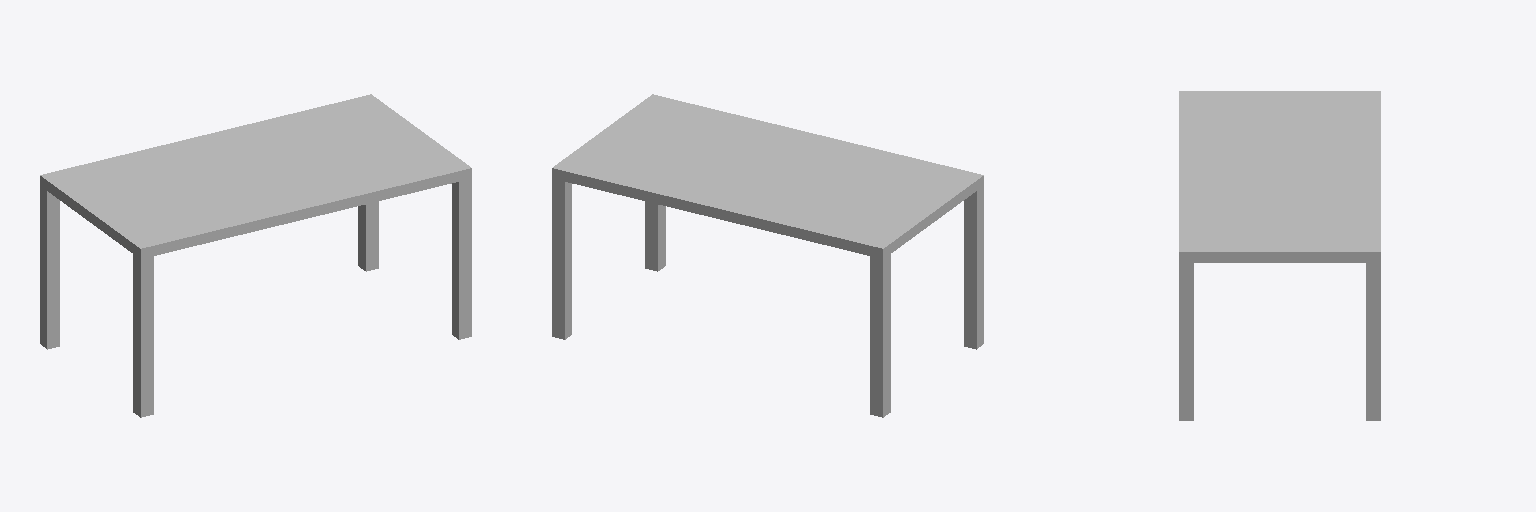
File: Unit_3_Challenge_Table.obj
3 views of the same model, side by side, from view 1: azimuth 30°, elevation 25°; view 2: azimuth 150°, elevation 25°; view 3: azimuth 270°, elevation 25° (orthographic).
Parts seen in each view (by area): view 1: Table; view 2: Table; view 3: Table.
Part boxes in pixels (x1,y1,x2,y2): Table: (40, 94, 471, 417); Table: (552, 94, 983, 417); Table: (1179, 91, 1380, 420).
Size of the model in its own units: 8.62 by 4.19 by 4.54.